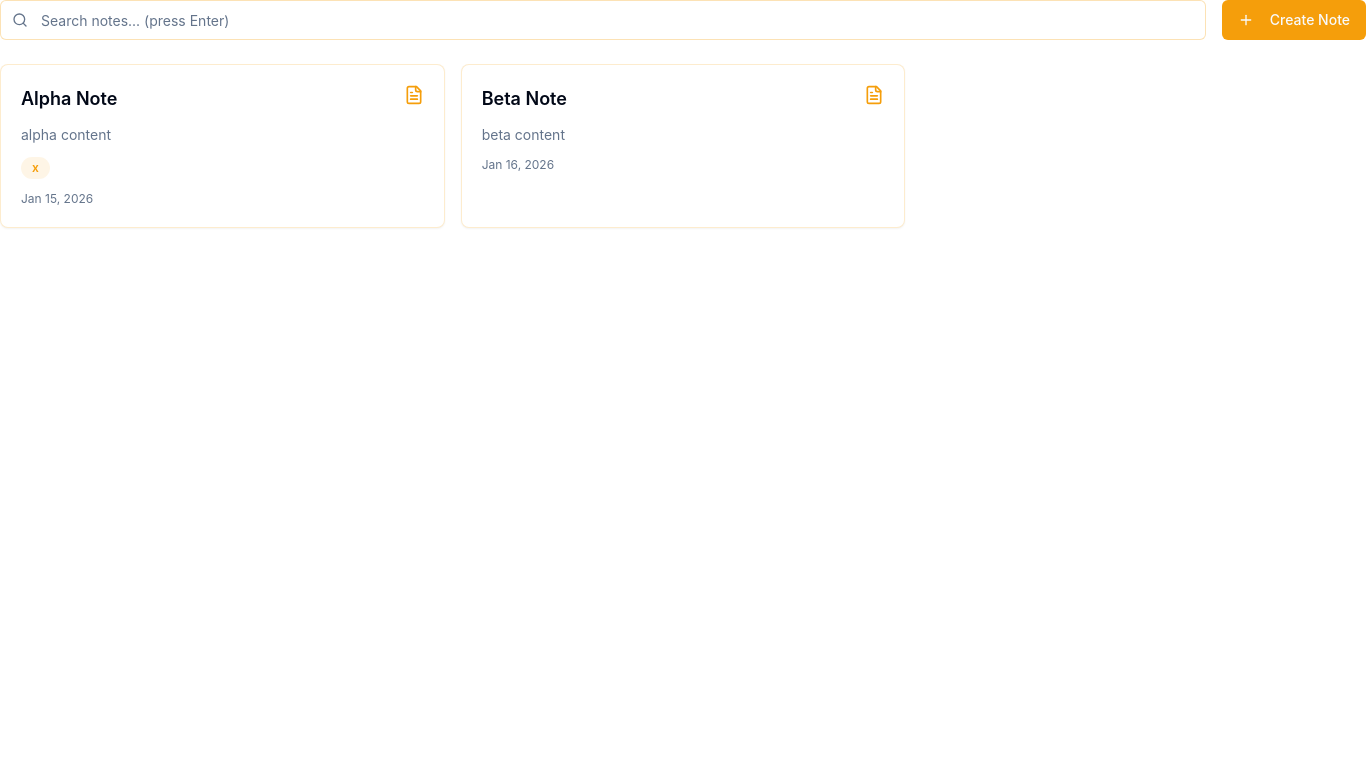
Test: NoteGrid › opens NoteEditor in edit mode when a note card is clicked → Edit
Note: Click the note card to open view dialog
Click the heading "Alpha Note".
click(69, 99)  # box 21,85 -> 117,113
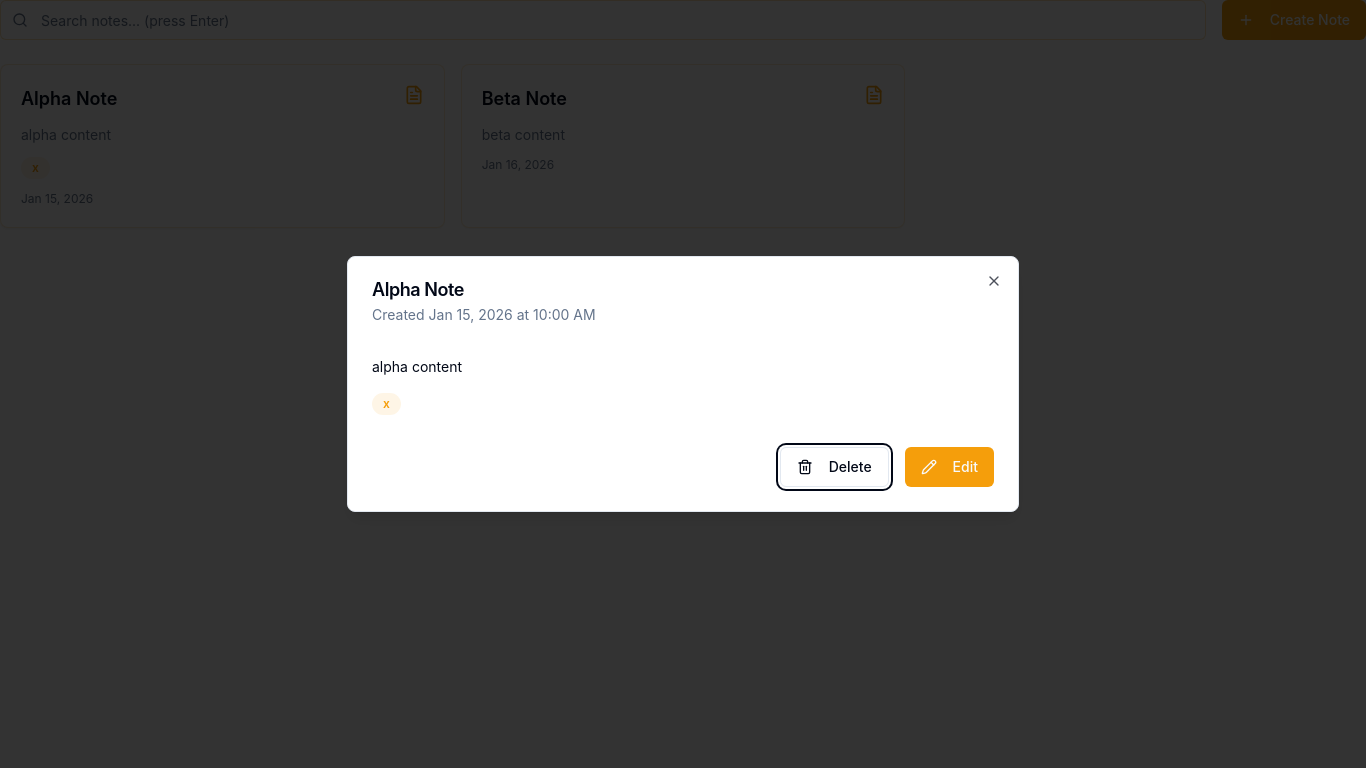
Note: Click Edit button in view dialog
Click the button "Edit".
click(949, 467)  # box 905,447 -> 994,487
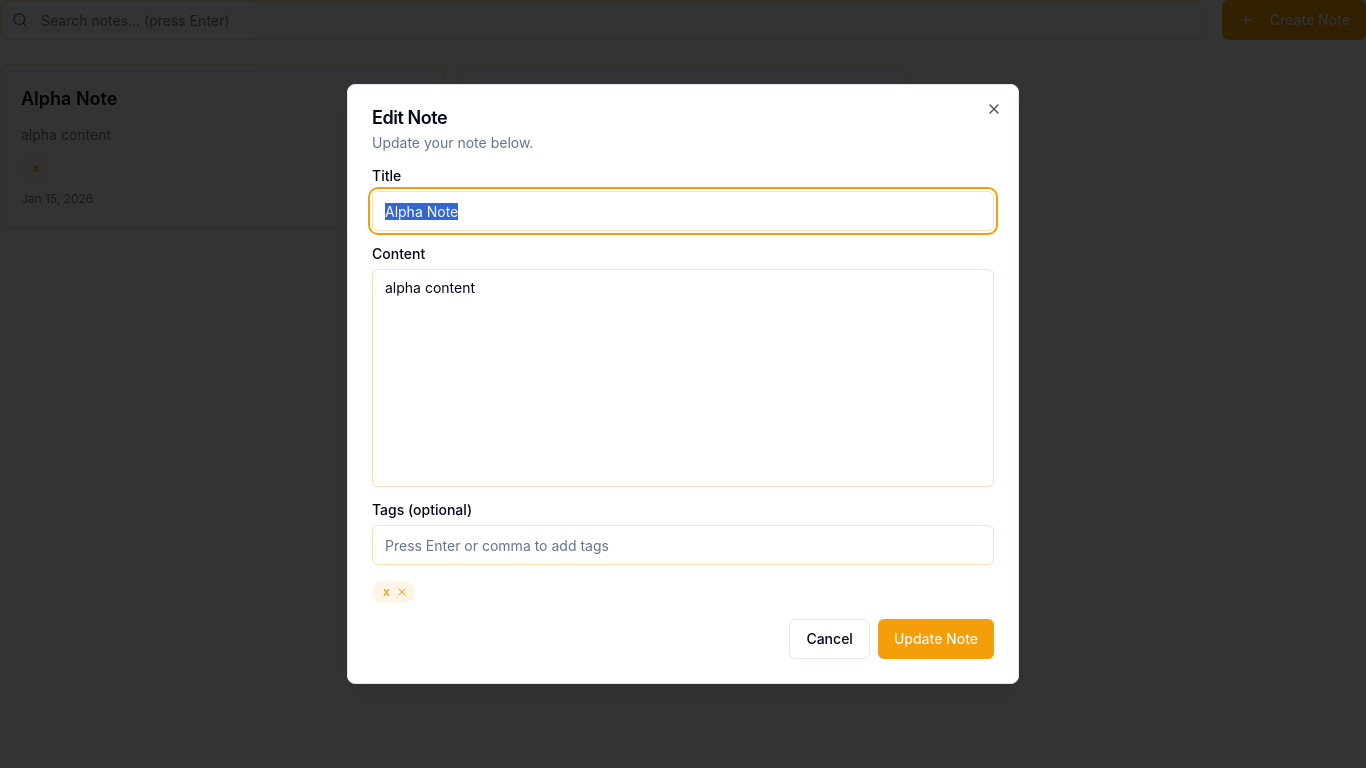
Expected: the heading "Edit Note" is shown, 372,107 -> 447,128
